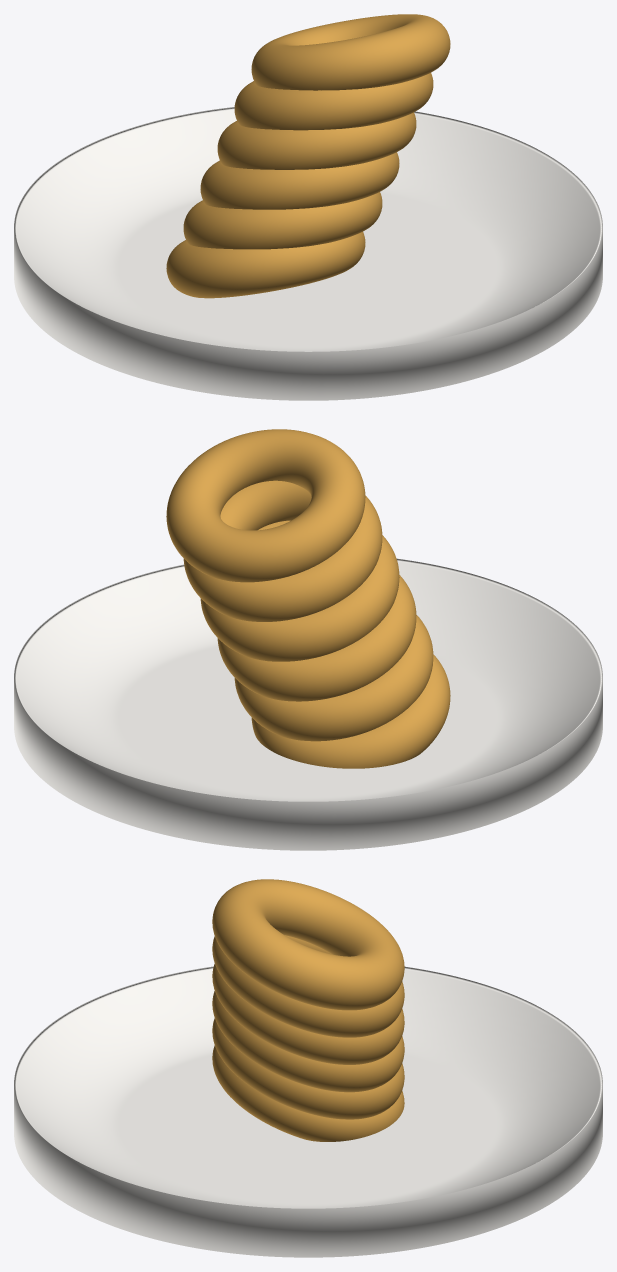
The model's file is aneis-hero.glb.
3 views of the same model, one above another, from view 1: azimuth 30°, elevation 25°; view 2: azimuth 150°, elevation 25°; view 3: azimuth 270°, elevation 25° (orthographic).
Bounding box in the file's own units: 0.24 × 0.1226 × 0.24.
